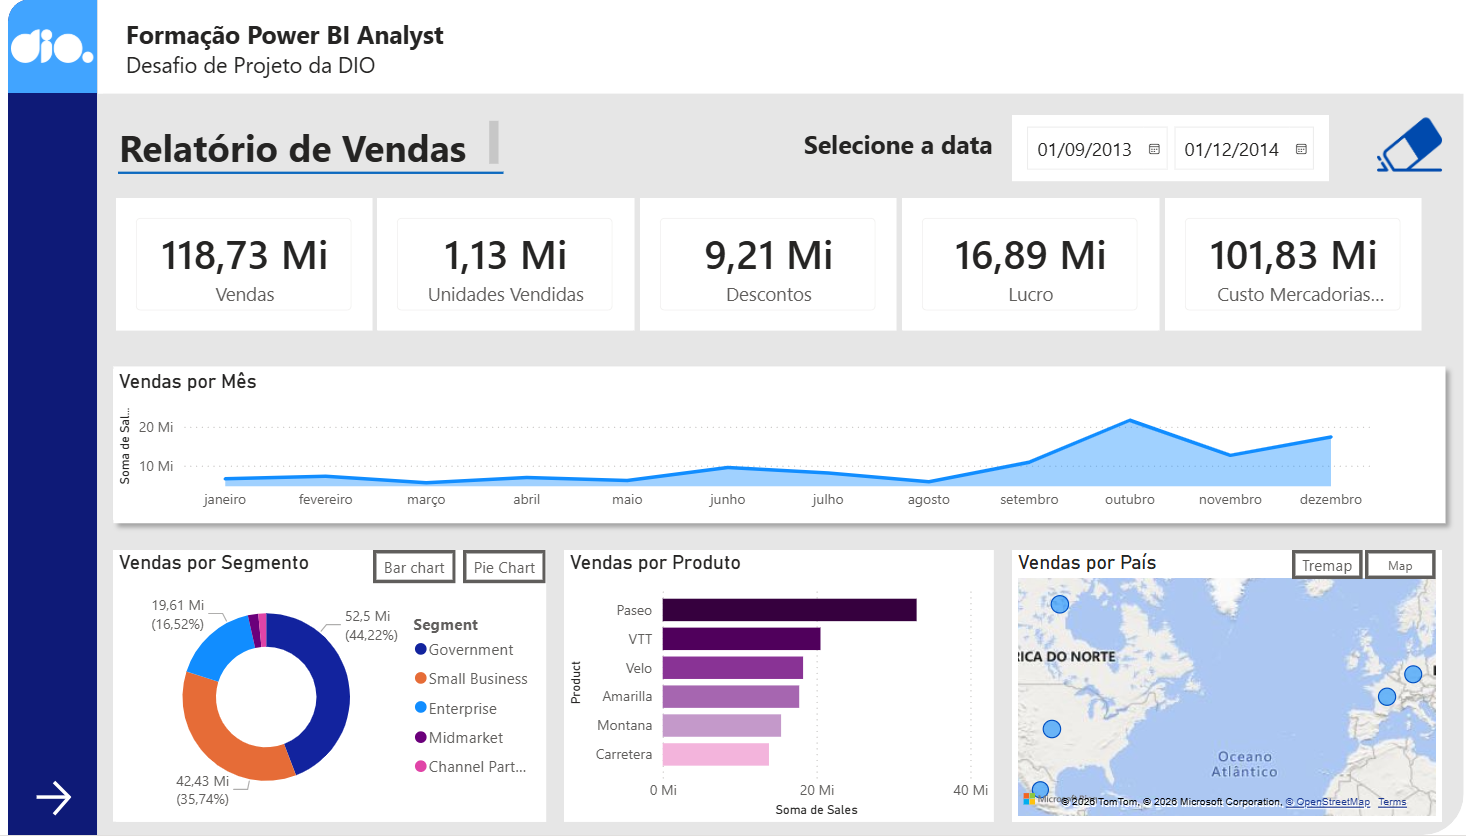

The dashboard page shown, as its layout file describes it:
{"tool":"powerbi","page":{"name":"Página 1","canvas":[1280,720],"ordinal":0},"visuals":[{"type":"shape","box":[10,0,1252.9,720],"z":0},{"type":"image","title":"img_clean","box":[1188.6,94.3,55.7,62.9],"z":0,"group":"g2"},{"type":"shape","box":[104.5,127.2,332.1,44.4],"z":0,"group":"g5"},{"type":"shape","box":[102.9,171.4,220.9,114.3],"z":0,"group":"g1"},{"type":"clusteredBarChart","title":"Vendas por Segmento","fields":{"Category":["financials.Segment"],"Y":["Sum(financials. Sales)"]},"box":[105.7,474.3,367.1,234.3],"z":750,"group":"g4"},{"type":"shape","box":[9.6,0,76.8,720.4],"z":1000},{"type":"textbox","box":[100,100,336.7,50.2],"z":1000,"group":"g5"},{"type":"slicer","fields":{"Values":["financials.Date"]},"box":[874.3,100,272.9,57.1],"z":1000,"group":"g2"},{"type":"shape","box":[328.7,171.4,220.9,114.3],"z":1000,"group":"g1"},{"type":"donutChart","title":"Vendas por Segmento","fields":{"Category":["financials.Segment"],"Y":["Sum(financials. Sales)"]},"box":[100,474.3,372.9,234.3],"z":1000,"group":"g4"},{"type":"actionButton","title":"Btn Pie - Sales x Segmente","box":[401.4,474.3,71.4,28.6],"z":1250,"group":"g4"},{"type":"actionButton","title":"Btn Bar - Sales x Segment","box":[324.3,474.3,71.4,28.6],"z":1500,"group":"g4"},{"type":"shape","box":[9.6,0,76.8,81],"z":2000},{"type":"textbox","box":[690,105.7,184.3,38.6],"z":2000,"group":"g2"},{"type":"shape","box":[554.6,171.4,220.9,114.3],"z":2000,"group":"g1"},{"type":"map","title":"Vendas por País","fields":{"Category":["financials.Country"],"Size":["Sum(financials. Sales)"]},"box":[874.3,474.3,370,234.3],"z":2000,"group":"g3"},{"type":"image","title":"img_logo_dio","box":[12.3,17.8,71.4,45.3],"z":3000},{"type":"actionButton","box":[1178.6,94.3,78.6,62.9],"z":3000,"group":"g2"},{"type":"shape","box":[780.4,171.4,220.9,114.3],"z":3000,"group":"g1"},{"type":"actionButton","title":"Btn Map - Sales x Country","box":[1178.3,474.2,60.8,25],"z":3250,"group":"g3"},{"type":"actionButton","title":"Btn Tremap - Sales x Country","box":[1115.8,474.2,60.8,25],"z":3500,"group":"g3"},{"type":"shape","box":[86.7,0,1176.7,81.7],"z":4000},{"type":"shape","box":[1006.3,171.4,220.9,114.3],"z":4000,"group":"g1"},{"type":"textbox","box":[105.7,10,327.1,62.9],"z":5000},{"type":"cardVisual","fields":{"Data":["Sum(financials. Sales)"]},"box":[102.9,171,220,114.3],"z":5000,"group":"g1"},{"type":"group","id":"g1","title":"Cartões","box":[102.9,171,1124.3,114.7],"z":6000},{"type":"cardVisual","fields":{"Data":["Sum(financials.Units Sold)"]},"box":[328,171,220,114.3],"z":6000,"group":"g1"},{"type":"cardVisual","fields":{"Data":["Sum(financials.Discounts)"]},"box":[554,171,220,114.3],"z":7000,"group":"g1"},{"type":"shape","box":[91.4,307.1,1165,152.9],"z":7000},{"type":"cardVisual","fields":{"Data":["Sum(financials.Profit)"]},"box":[780,171,220,114.3],"z":8000,"group":"g1"},{"type":"shape","box":[102.9,474.3,370,234.3],"z":8000},{"type":"cardVisual","fields":{"Data":["Sum(financials.COGS)"]},"box":[1006,171,220,114.3],"z":9000,"group":"g1"},{"type":"shape","box":[488.6,474.3,370,234.3],"z":9000},{"type":"shape","box":[874,474.3,370,234.3],"z":10000},{"type":"areaChart","title":"Vendas por Mês","fields":{"Category":["financials.Date.Variation.Hierarquia de datas.Mês"],"Y":["Sum(financials. Sales)"]},"box":[100,318.6,1088.6,130],"z":11000},{"type":"clusteredBarChart","title":"Vendas por Produto","fields":{"Category":["financials.Product"],"Y":["Sum(financials. Sales)"]},"box":[488.6,474.3,370,234.3],"z":12000},{"type":"group","id":"g2","title":"Filtro por data","box":[690,94.3,567.1,62.9],"z":13000},{"type":"group","id":"g3","title":"Sales x Country","box":[874.3,474.2,370,234.4],"z":14000},{"type":"group","id":"g4","title":"Sales x Segment","box":[100,474.3,372.9,234.3],"z":16000},{"type":"group","id":"g5","title":"Title report","box":[100,100,336.7,71.7],"z":17000},{"type":"actionButton","box":[24.3,668.6,47.1,40],"z":18000}]}

Visuals, with their boxes on the page's 1280x720 design canvas (x1, y1, x2, y2). These are canvas units, not pixel positions in the 1466x836 screenshot, which may show the page scaled, cropped or inside an application window:
shape: 10:0:1263:720
"img_clean" image: 1189:94:1244:157
shape: 104:127:437:172
shape: 103:171:324:286
"Vendas por Segmento" clusteredBarChart: 106:474:473:709
shape: 10:0:86:720
textbox: 100:100:437:150
slicer - financials.Date: 874:100:1147:157
shape: 329:171:550:286
"Vendas por Segmento" donutChart: 100:474:473:709
"Btn Pie - Sales x Segmente" actionButton: 401:474:473:503
"Btn Bar - Sales x Segment" actionButton: 324:474:396:503
shape: 10:0:86:81
textbox: 690:106:874:144
shape: 555:171:776:286
"Vendas por País" map: 874:474:1244:709
"img_logo_dio" image: 12:18:84:63
actionButton: 1179:94:1257:157
shape: 780:171:1001:286
"Btn Map - Sales x Country" actionButton: 1178:474:1239:499
"Btn Tremap - Sales x Country" actionButton: 1116:474:1177:499
shape: 87:0:1263:82
shape: 1006:171:1227:286
textbox: 106:10:433:73
cardVisual - Sum(financials. Sales): 103:171:323:285
"Cartões" group: 103:171:1227:286
cardVisual - Sum(financials.Units Sold): 328:171:548:285
cardVisual - Sum(financials.Discounts): 554:171:774:285
shape: 91:307:1256:460
cardVisual - Sum(financials.Profit): 780:171:1000:285
shape: 103:474:473:709
cardVisual - Sum(financials.COGS): 1006:171:1226:285
shape: 489:474:859:709
shape: 874:474:1244:709
"Vendas por Mês" areaChart: 100:319:1189:449
"Vendas por Produto" clusteredBarChart: 489:474:859:709
"Filtro por data" group: 690:94:1257:157
"Sales x Country" group: 874:474:1244:709
"Sales x Segment" group: 100:474:473:709
"Title report" group: 100:100:437:172
actionButton: 24:669:71:709
